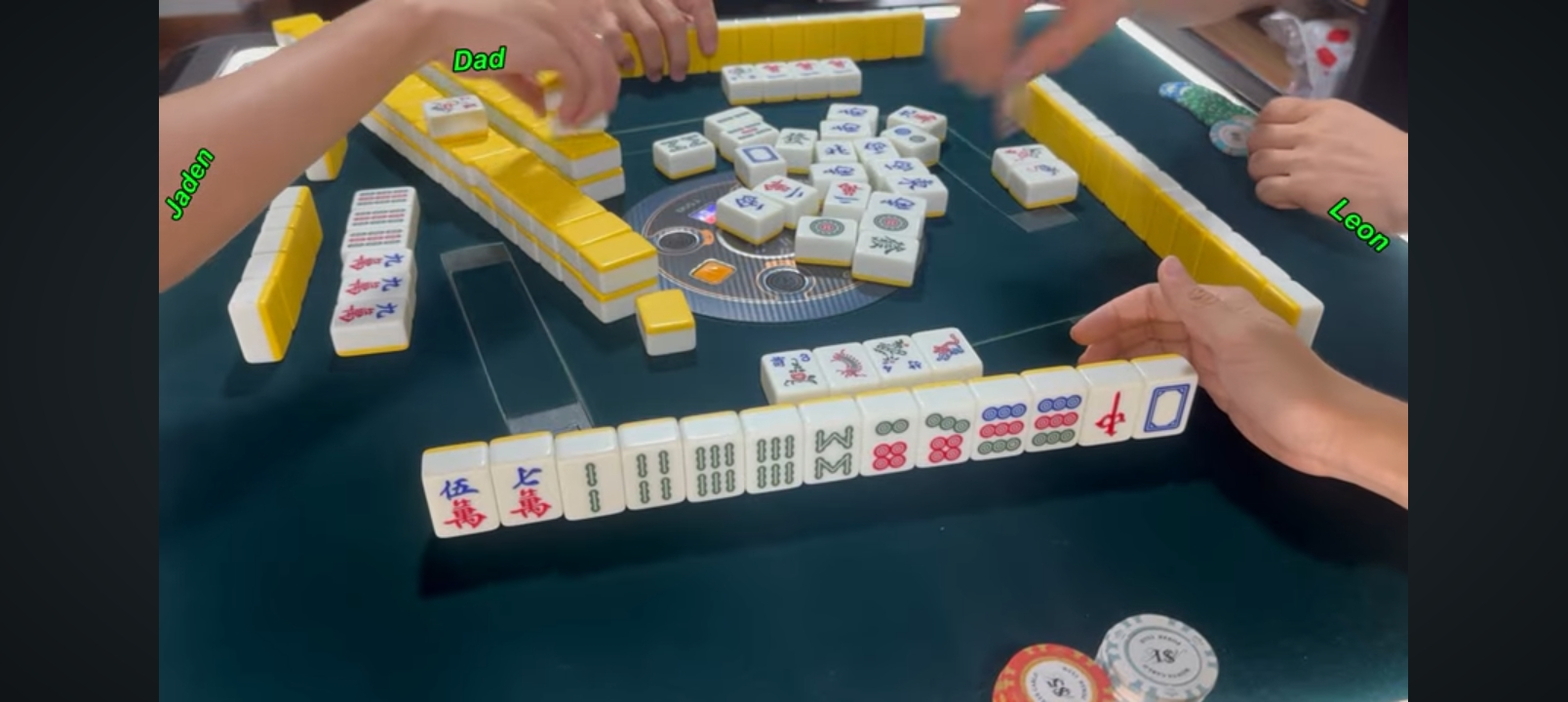TILE: (424, 463, 492, 535), (494, 453, 556, 524), (560, 449, 620, 519), (623, 446, 686, 509), (686, 436, 746, 502), (747, 431, 806, 493), (974, 400, 1033, 460), (862, 413, 919, 475), (805, 423, 863, 483), (1032, 391, 1088, 452), (1139, 380, 1197, 436), (919, 407, 974, 466), (1087, 383, 1138, 444), (923, 328, 985, 377), (867, 334, 931, 381), (765, 350, 830, 394), (818, 341, 874, 384)
